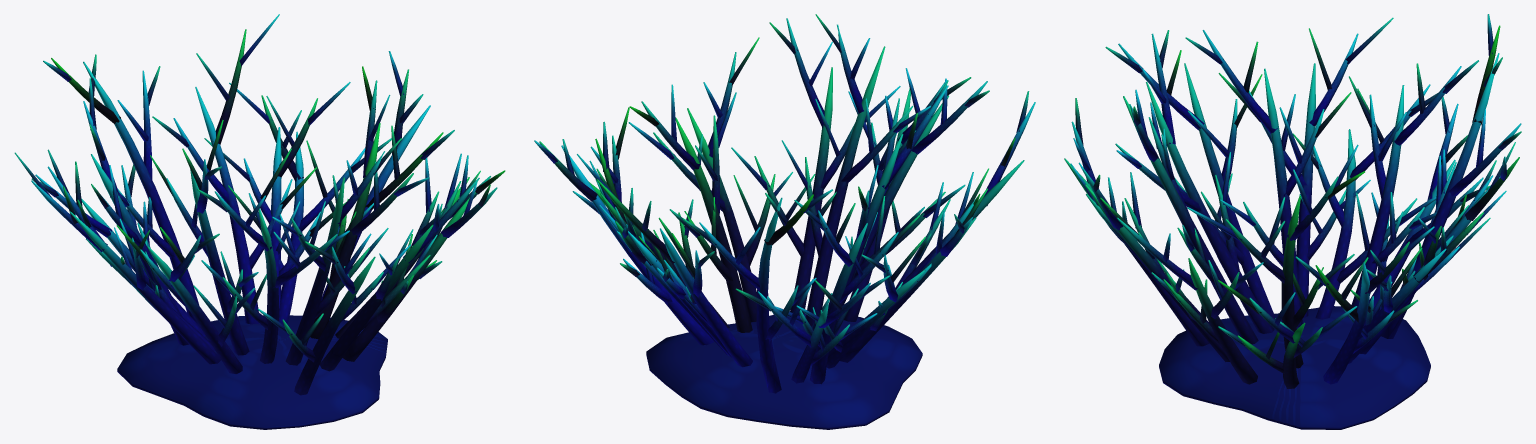
The model's file is reef-seriatopora-pink-birdsnest.glb.
3 renders of one model, left to right at view 1: azimuth 30°, elevation 25°; view 2: azimuth 150°, elevation 25°; view 3: azimuth 270°, elevation 25°, orthographic. The views are drawn at different scales.
Visible parts, largest first — view 1: Reef_Seriatopora_Pink_Birdsnest; view 2: Reef_Seriatopora_Pink_Birdsnest; view 3: Reef_Seriatopora_Pink_Birdsnest.
Boxes of the visible parts, x1,y1,x2,y2 form: Reef_Seriatopora_Pink_Birdsnest: (14,14,505,429); Reef_Seriatopora_Pink_Birdsnest: (534,14,1035,429); Reef_Seriatopora_Pink_Birdsnest: (1064,14,1521,429).
Bounding box in the file's own units: 0.3202 × 0.2068 × 0.2965.
Materials: 1 (1 with a texture image).
